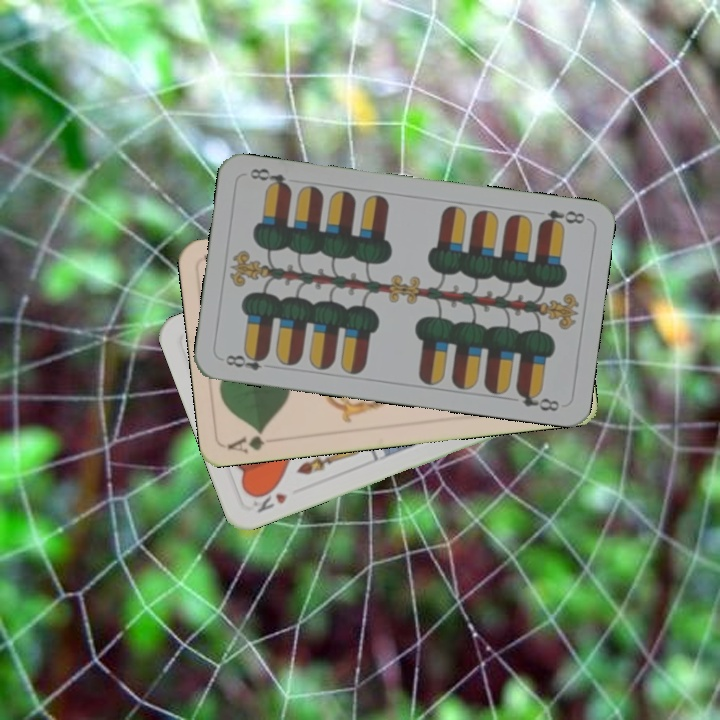E8: (218, 348, 270, 373), (535, 206, 587, 231)
GA: (224, 426, 267, 455)
HK: (248, 483, 290, 516)
